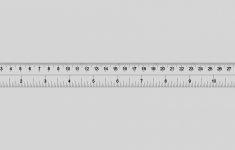scale: (0, 63, 235, 87)
